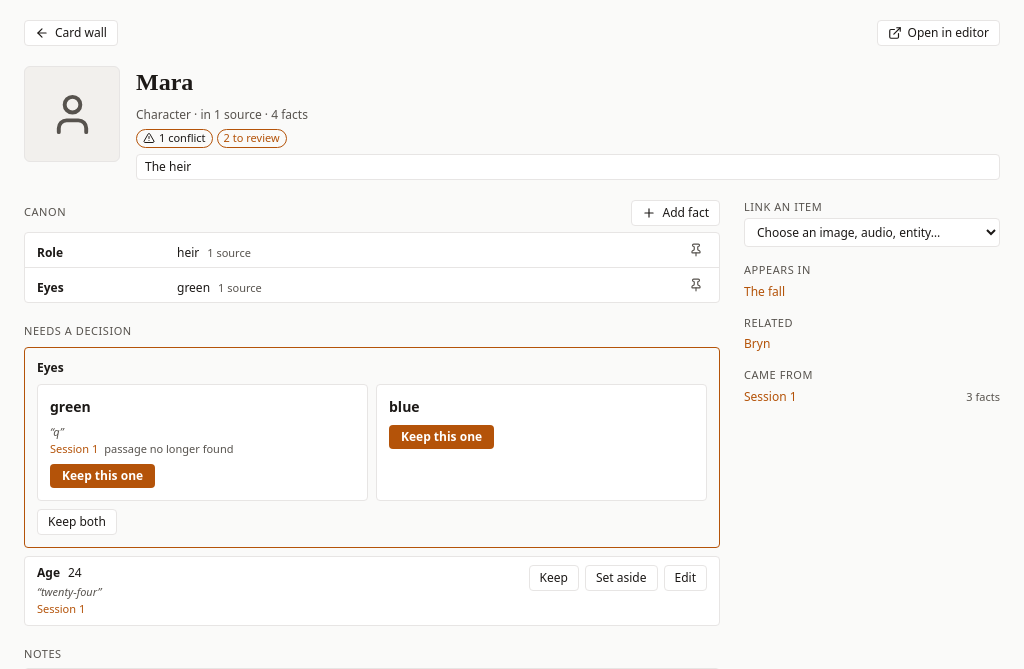
Scenario: EntityCard › lists canon one line per attribute with its source count, and pins a line to the card
Expected: the text "heir" is shown, [177,244,199,260]
Expected: the text "1 source" is shown 2 times, [207,246,251,260]; [218,280,262,295]
Click the button named "Pin Eyes to the card" at (696, 284), box [685,274,707,296]
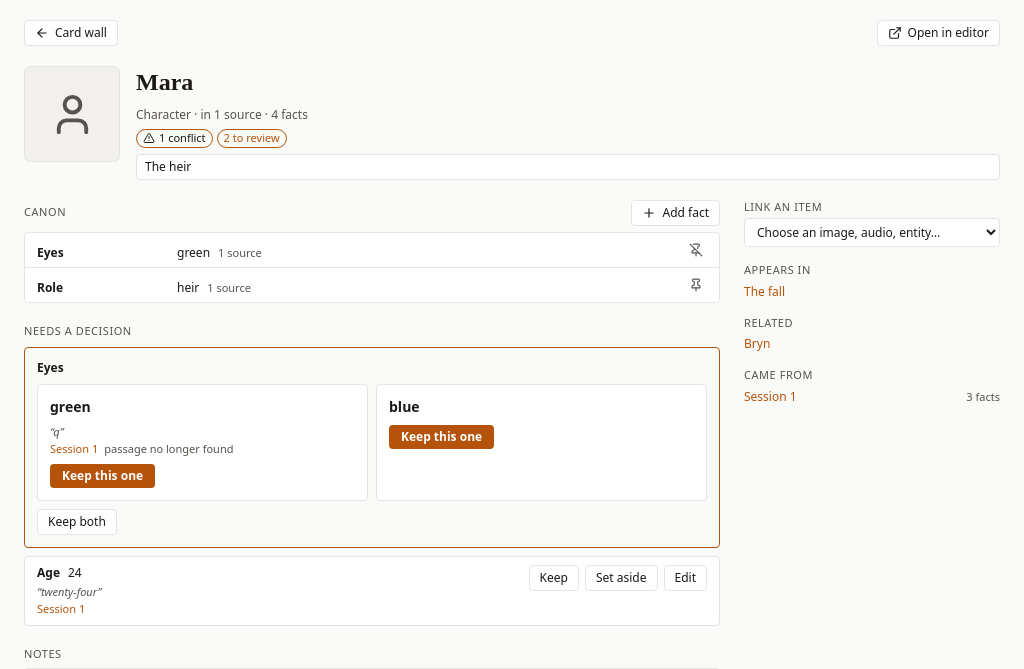
Expected: the list item "Eyes green 1 source" is shown, [25,232,719,268]
Expected: the button named "Unpin Eyes from the card" is shown, [685,238,707,260]
